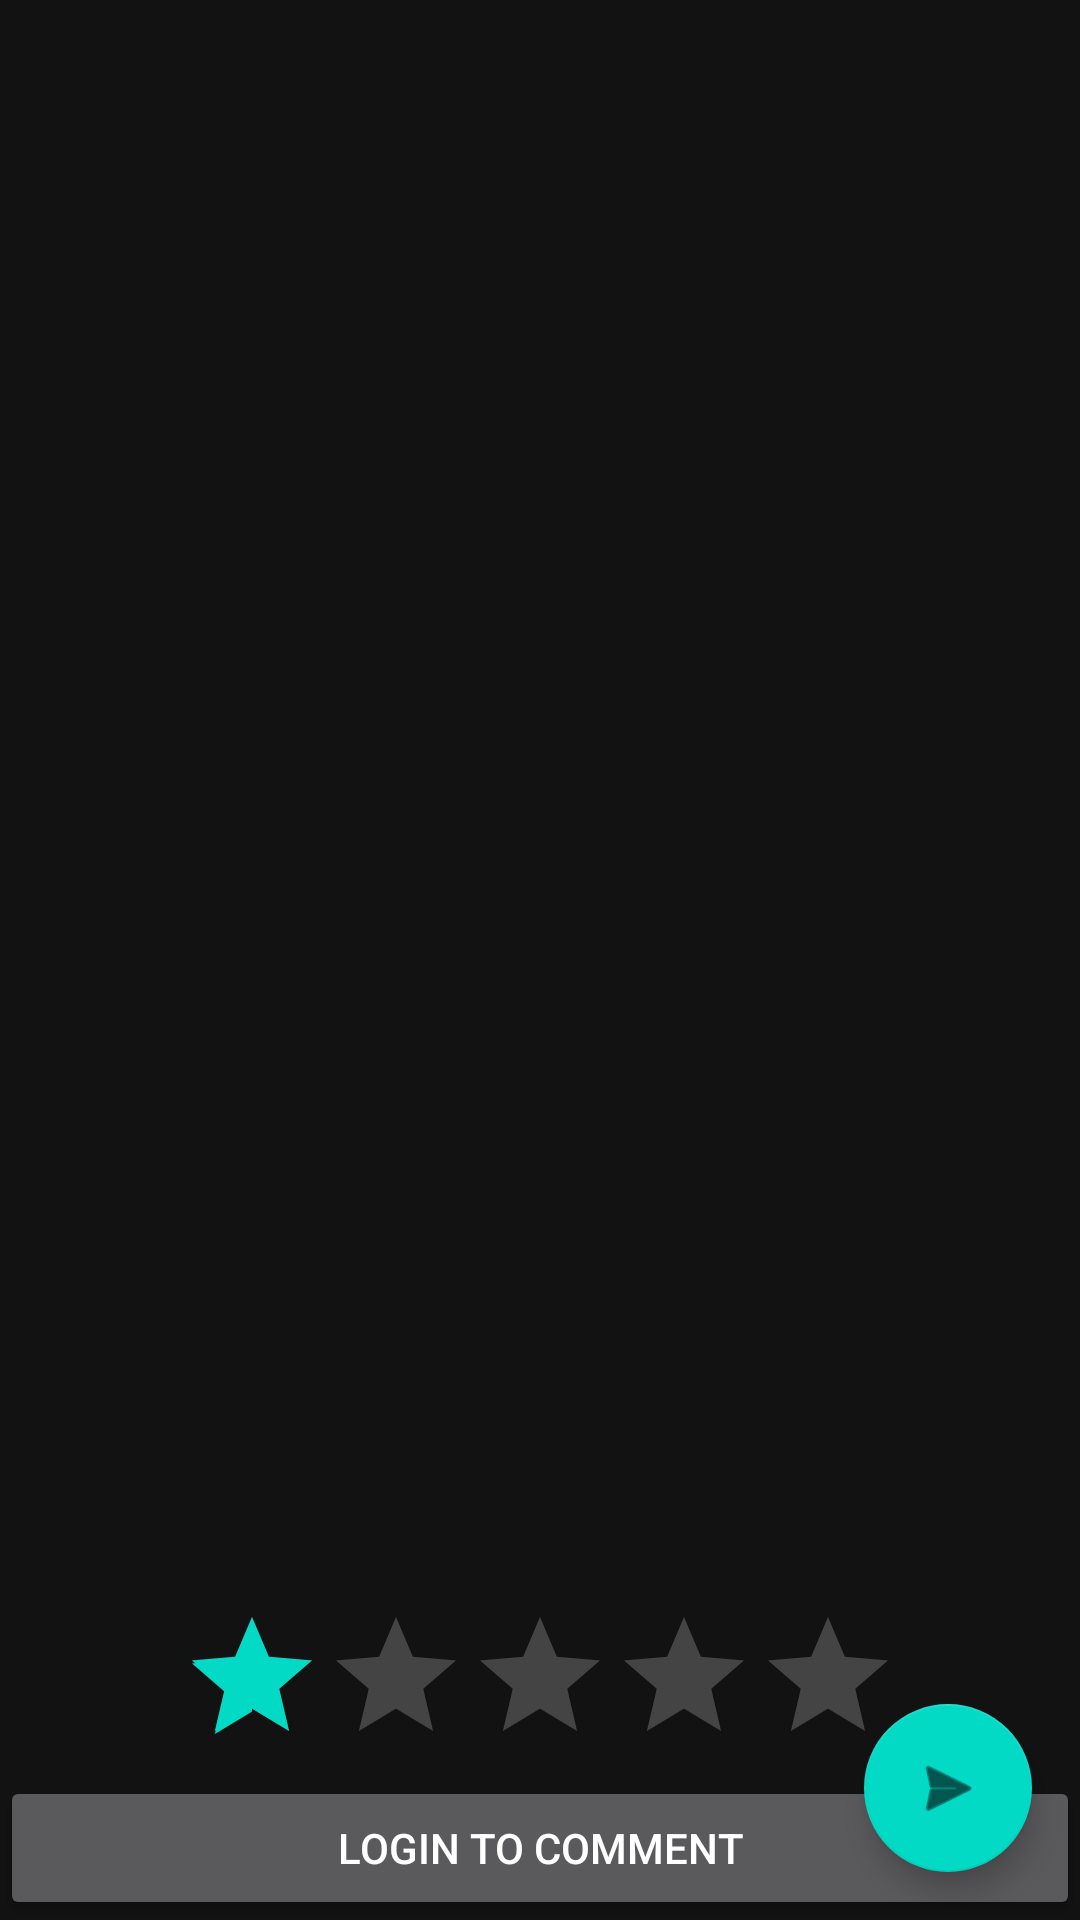

Point at icon controls on the screen. Image size 1080 x 1920, points as (x=x, y=y).
send: (x=948, y=1788)
